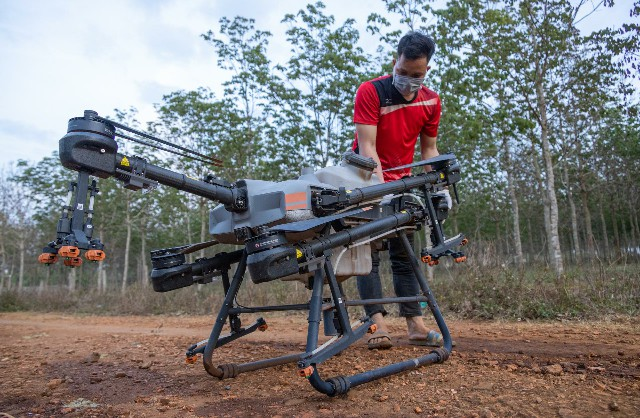maybay_khongnguoilai: (54, 112, 463, 383)
